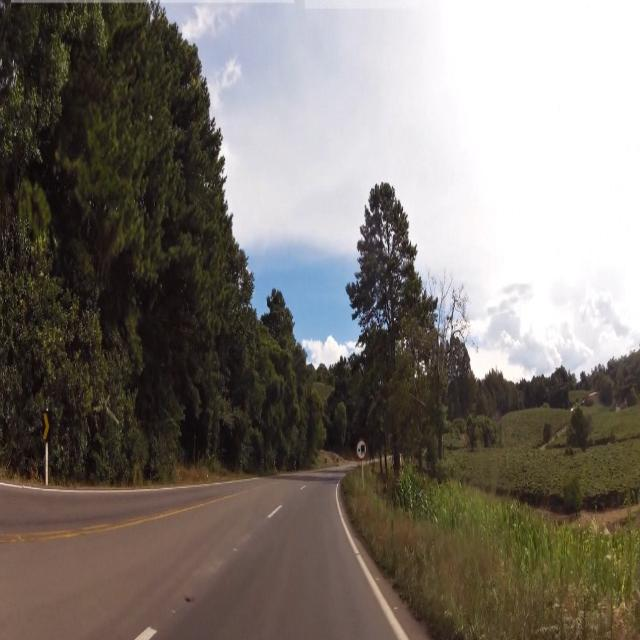A-27: (356, 435, 368, 462)
Del: (40, 402, 55, 444)
